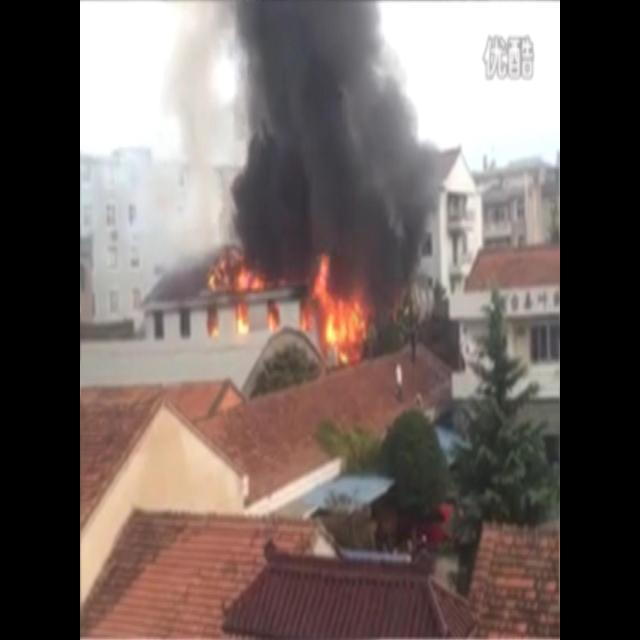fire: (307, 266, 371, 362), (208, 261, 282, 339)
smoke: (170, 5, 439, 295)
